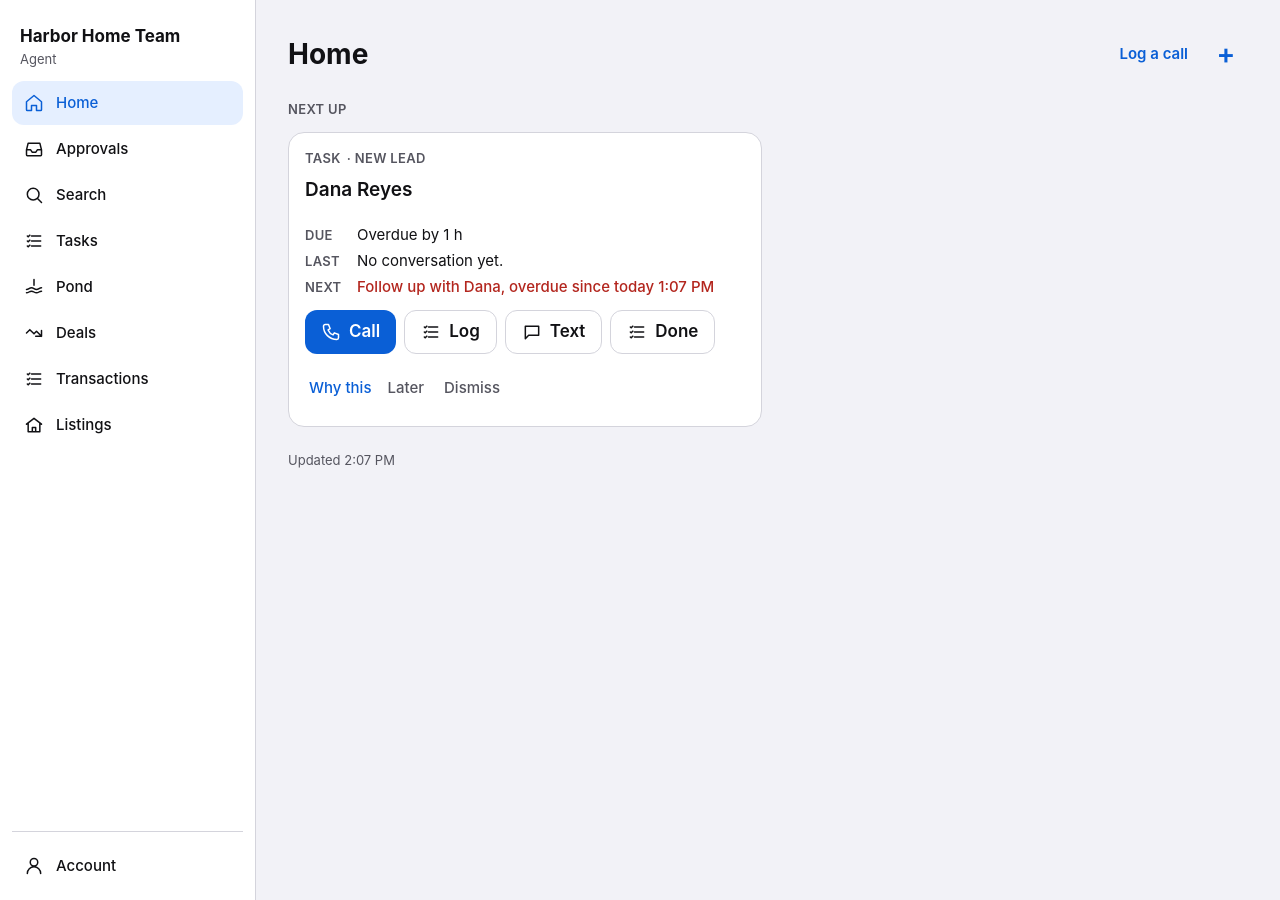
Test case: H1 (R-TODAY-11): what the tap will add and close is named in the pinned footer, beside the one button, before the tap › E880: Log → "Talked": the button is short, and under it, inside the footer: "Adds: … Marks done: Follow up with Dana (was due …)"
What coordinates should you click on to do the following:
click the button with aria-label "Log for Dana Reyes"
I would click on:
 (450, 332)
Its box is top-left (404, 310), bottom-right (497, 354).
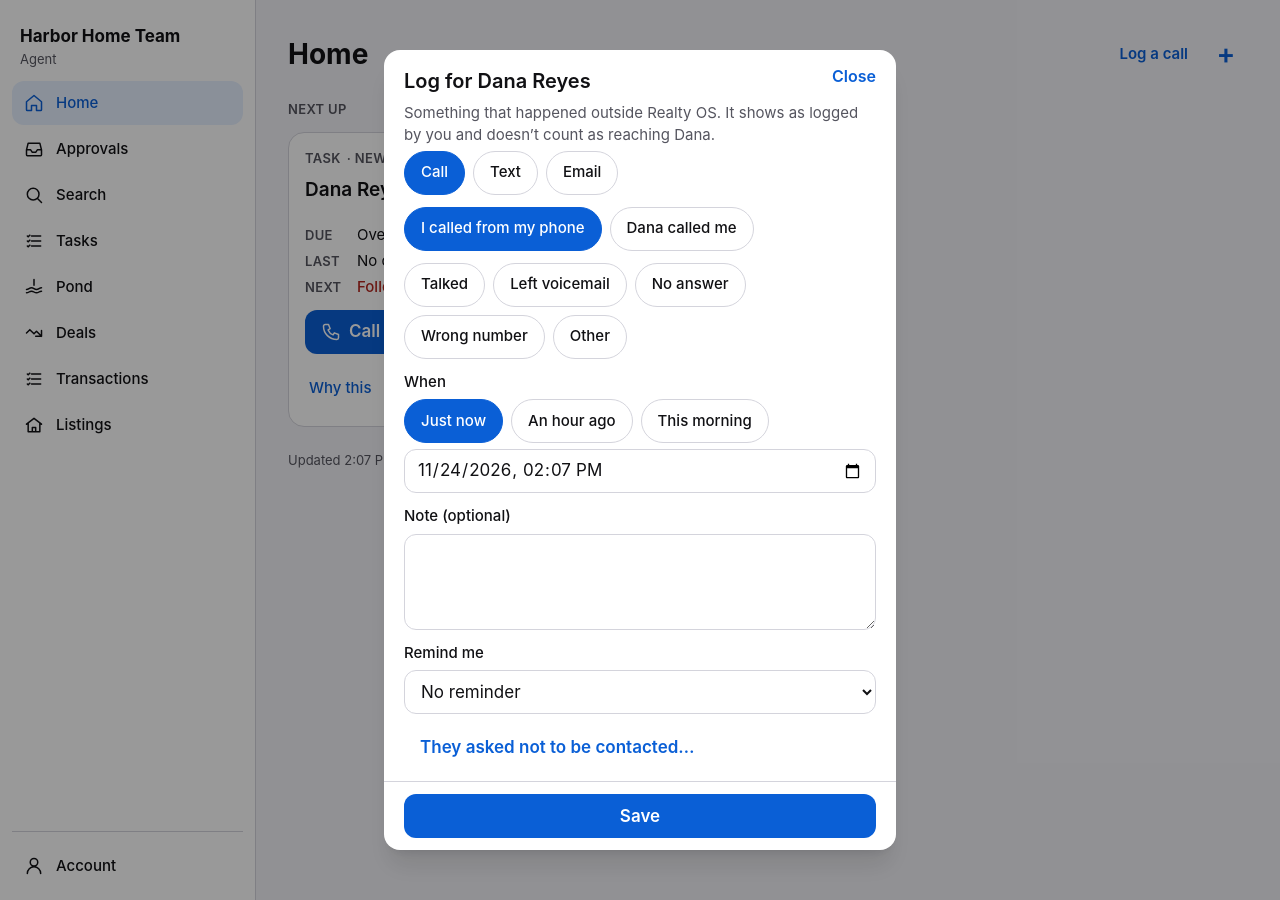
What coordinates should you click on to do the following:
click the button "Talked"
I would click on:
 (445, 285)
Its box is top-left (404, 263), bottom-right (485, 307).
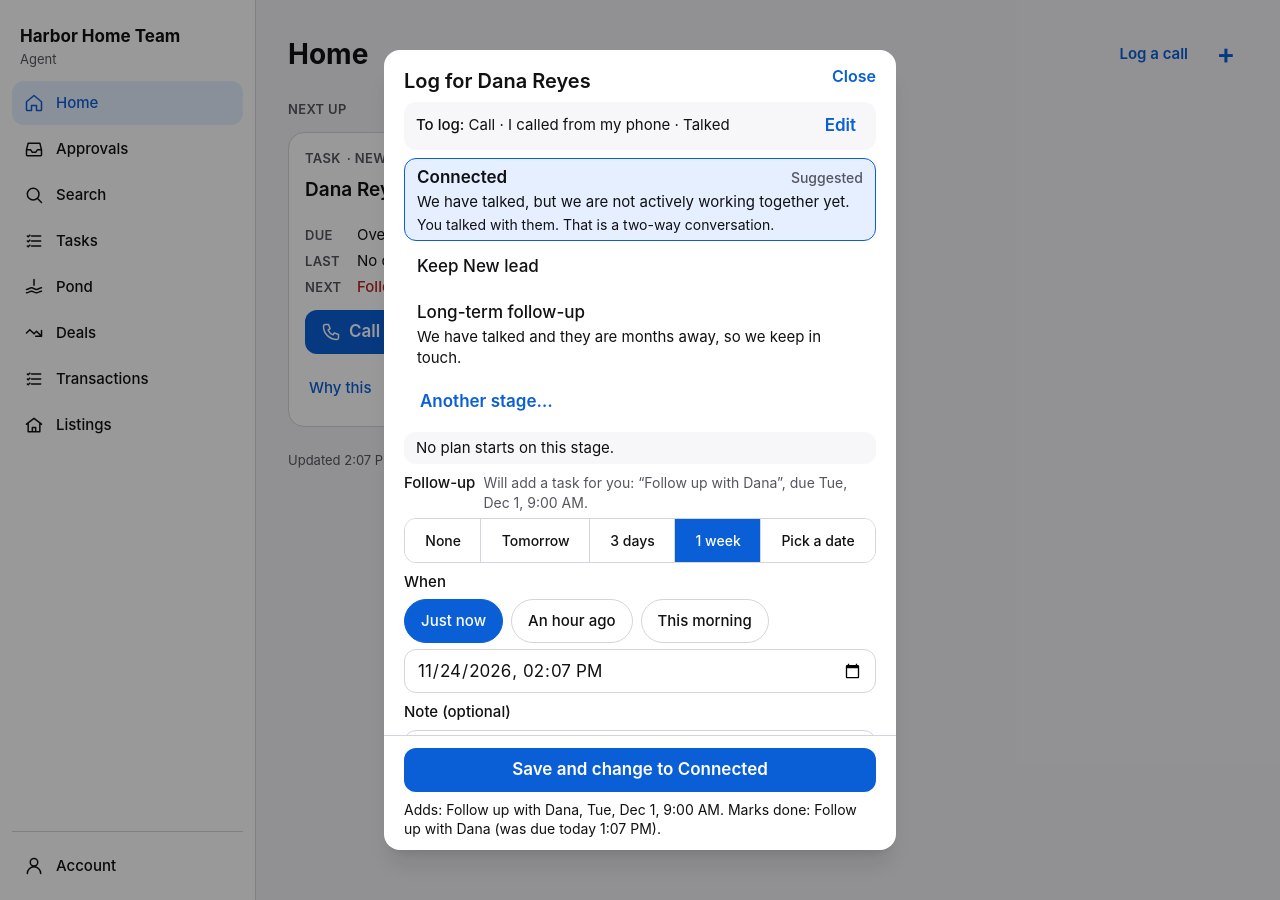
Now the button with test id "log-save" is enabled
Now the radio button labelled "Suggested" is shown, box top-left (404, 158), bottom-right (876, 241)
Now the button with test id "log-save" reads "Save and change to Connected"
What coordinates should you click on to do the following:
click the button with test id "log-save"
I would click on:
 (640, 770)
Its box is top-left (404, 748), bottom-right (876, 792).
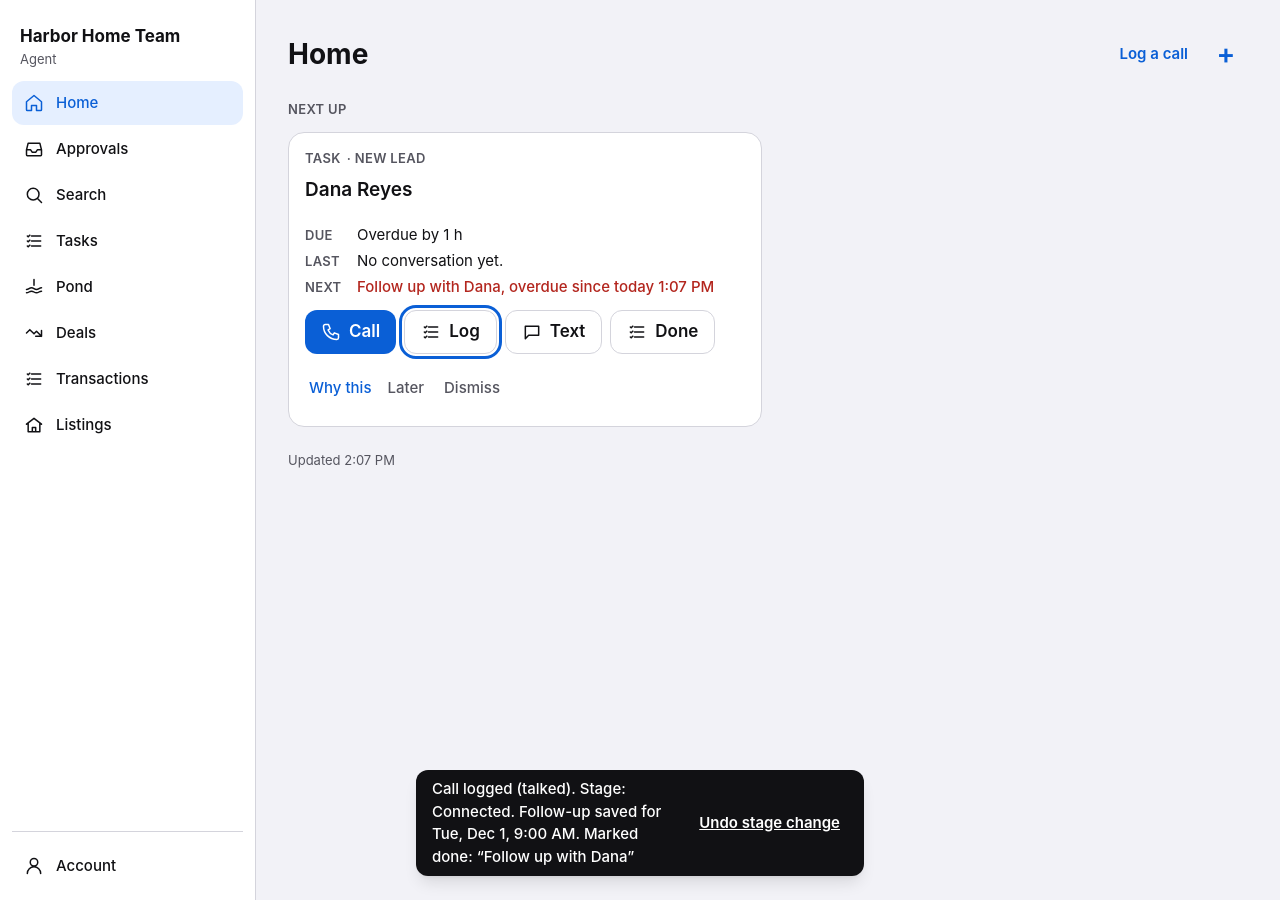
Now the dialog is gone
